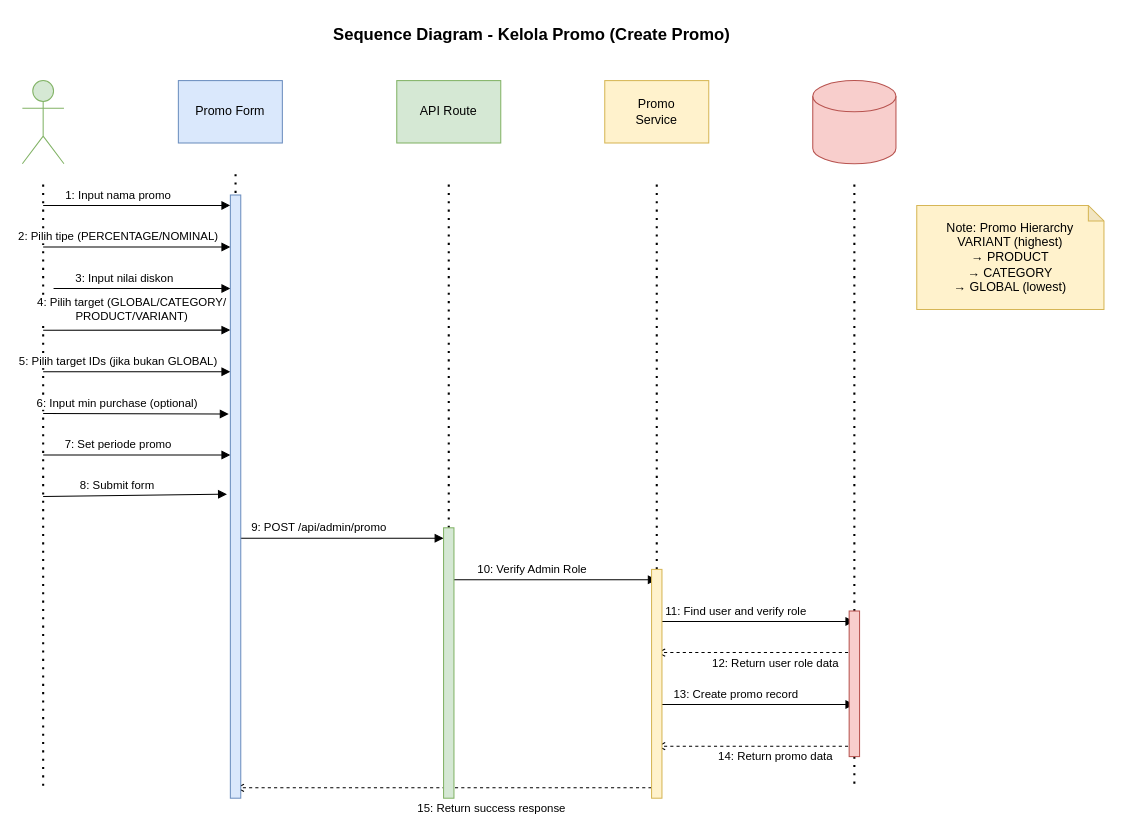
This 1122x833 diagram has some shape labels left out. Each missing label, with the centre of its shape:
"Admin" belongs at [42,122].
"Database" belongs at [854,122].
